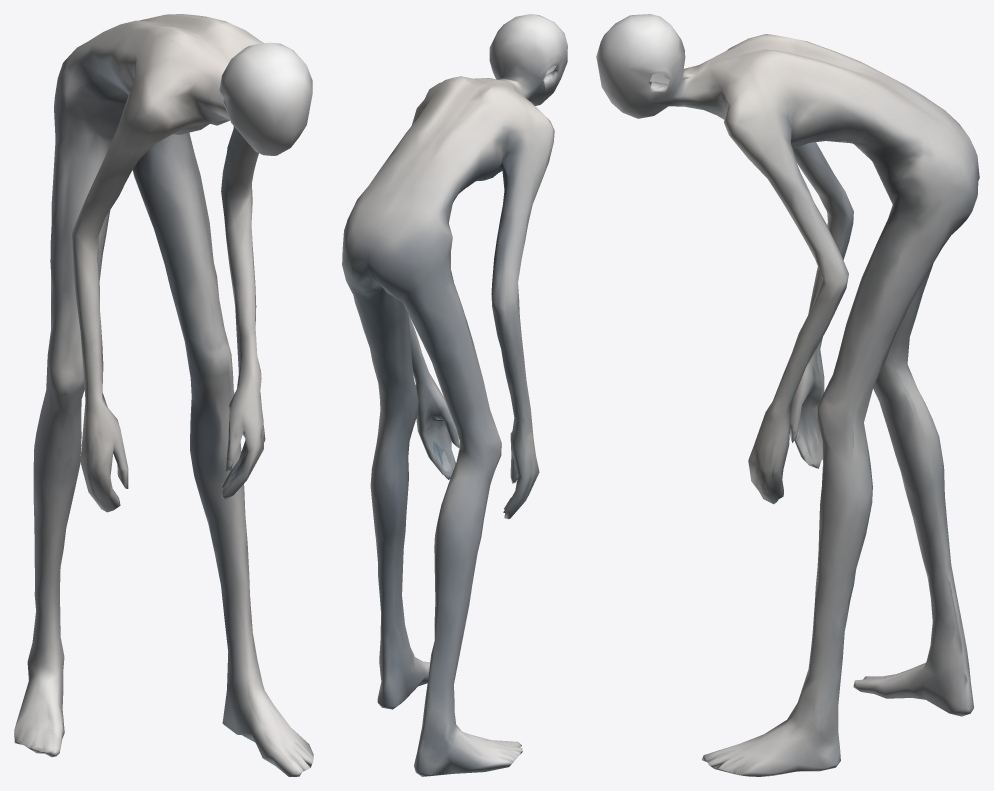
The model's file is VAR_BlueCorridor_PeepholeFigure.fbx.
3 views of the same model, side by side, from view 1: azimuth 30°, elevation 25°; view 2: azimuth 150°, elevation 25°; view 3: azimuth 270°, elevation 25° (orthographic). The views are drawn at different scales.
Visible parts, largest first — view 1: texture_mapping; view 2: texture_mapping; view 3: texture_mapping.
Boxes of the visible parts, bbox=[...] form: texture_mapping: bbox=[14, 14, 313, 776]; texture_mapping: bbox=[342, 14, 567, 776]; texture_mapping: bbox=[596, 14, 979, 776].
Size of the model in its own units: 0.2923 by 0.4852 by 1.
1 material, 1 textured.
